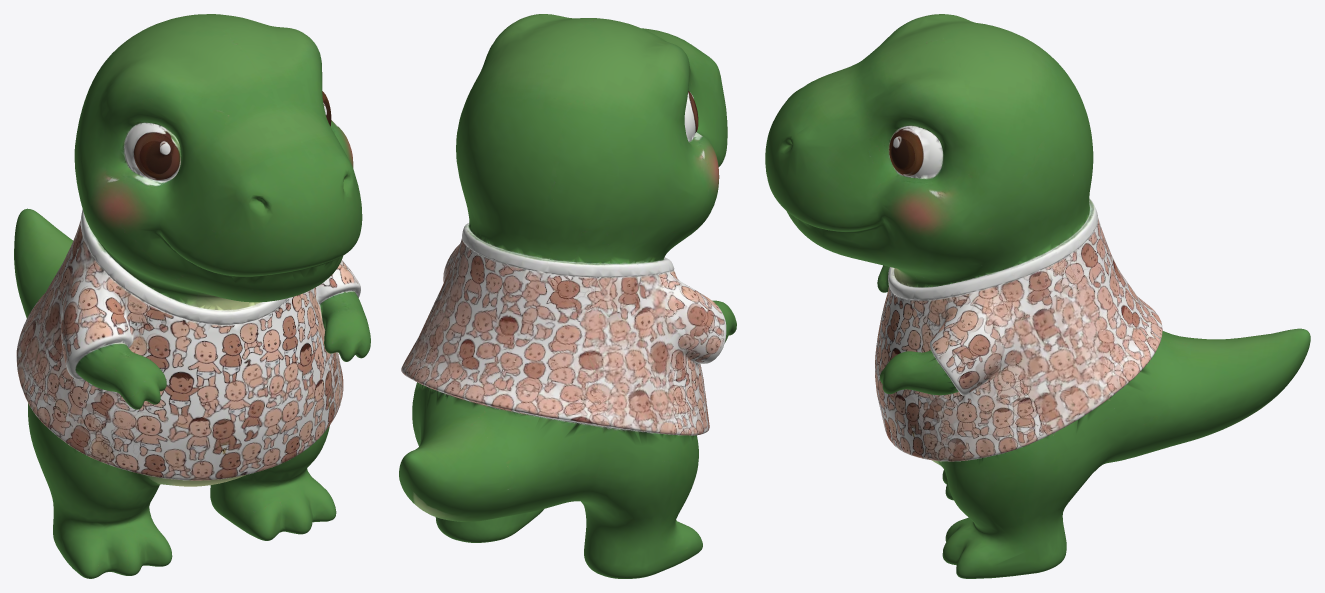
The model's file is baby-dino.glb.
3 views of the same model, side by side, from view 1: azimuth 30°, elevation 25°; view 2: azimuth 150°, elevation 25°; view 3: azimuth 270°, elevation 25° (orthographic). The views are drawn at different scales.
Size of the model in its own units: 1.11 by 1.88 by 1.9.
Materials: 1 (1 with a texture image).
